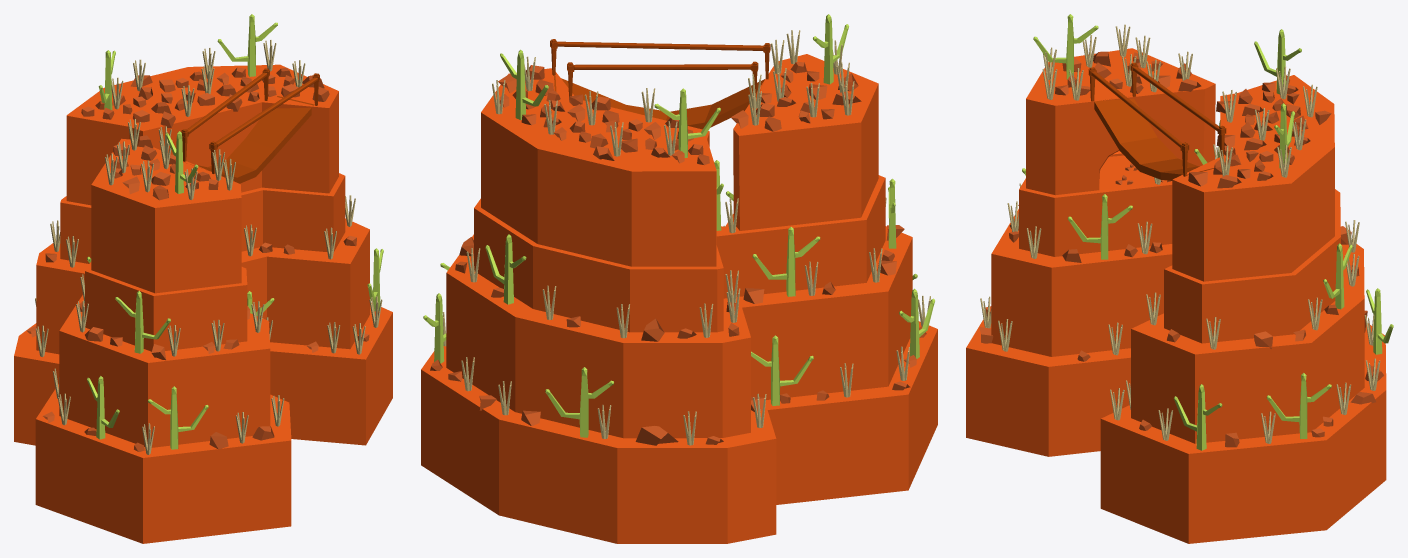
The model's file is Hegy.fbx.
3 views of the same model, side by side, from view 1: azimuth 30°, elevation 25°; view 2: azimuth 150°, elevation 25°; view 3: azimuth 270°, elevation 25° (orthographic). The views are drawn at different scales.
Visible parts, largest first — view 1: Kúp.002, Kúp.069, Kúp.110, Kúp.105, Kúp.103, Kúp.114, Kúp.101, Kúp.076, Kúp.017, Kúp.083, Kúp.102, Kúp.005 (+4 smaller); view 2: Kúp.002, Kúp.069, Kúp.076, Kúp.083, Kúp.116, Kúp.106, Kúp.115, Kúp.102, Kúp.103, Kúp.107, Kúp.101, Kúp.114 (+5 smaller); view 3: Kúp.002, Kúp.069, Kúp.113, Kúp.112, Kúp.108, Kúp.101, Kúp.102, Kúp.107, Kúp.116, Kúp.076, Kúp.083, Kúp.012 (+2 smaller).
Boxes of the visible parts, <box> form: Kúp.002: <box>14,64,392,543</box>; Kúp.069: <box>198,96,314,183</box>; Kúp.110: <box>148,386,208,449</box>; Kúp.105: <box>115,290,170,353</box>; Kúp.103: <box>217,14,277,76</box>; Kúp.114: <box>87,376,119,439</box>; Kúp.101: <box>165,131,198,193</box>; Kúp.076: <box>216,77,317,146</box>; Kúp.017: <box>122,171,170,200</box>; Kúp.083: <box>187,72,267,133</box>; Kúp.102: <box>98,50,115,109</box>; Kúp.005: <box>133,102,175,127</box>; Kúp.002: <box>421,54,937,543</box>; Kúp.069: <box>554,75,764,129</box>; Kúp.076: <box>557,41,764,51</box>; Kúp.083: <box>574,64,751,70</box>; Kúp.116: <box>545,367,613,437</box>; Kúp.106: <box>752,227,820,296</box>; Kúp.115: <box>751,335,813,405</box>; Kúp.102: <box>654,88,720,157</box>; Kúp.103: <box>500,49,548,120</box>; Kúp.107: <box>485,234,526,304</box>; Kúp.101: <box>813,14,848,84</box>; Kúp.114: <box>899,288,934,358</box>; Kúp.002: <box>966,48,1386,543</box>; Kúp.069: <box>1094,95,1213,180</box>; Kúp.113: <box>1266,373,1331,438</box>; Kúp.112: <box>1174,384,1222,450</box>; Kúp.108: <box>1067,194,1132,259</box>; Kúp.101: <box>1033,14,1098,79</box>; Kúp.102: <box>1254,29,1301,94</box>; Kúp.107: <box>1323,243,1352,309</box>; Kúp.116: <box>1366,288,1393,354</box>; Kúp.076: <box>1091,71,1182,147</box>; Kúp.083: <box>1133,66,1218,131</box>; Kúp.012: <box>1188,158,1241,188</box>.
Size of the model in its own units: 5905 by 5505 by 5443.
